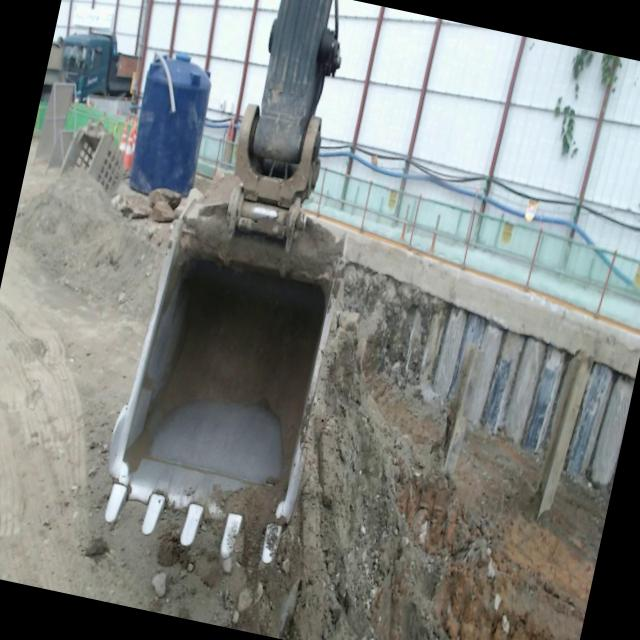red-sand: (292, 320, 611, 640)
white-sand: (0, 239, 133, 607), (11, 168, 162, 320)
